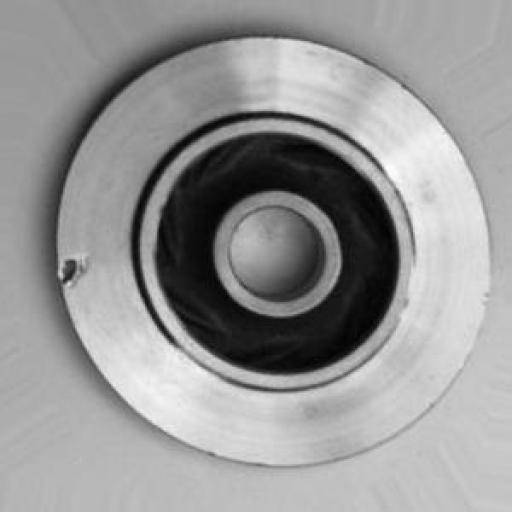defect: (32, 234, 107, 332)
